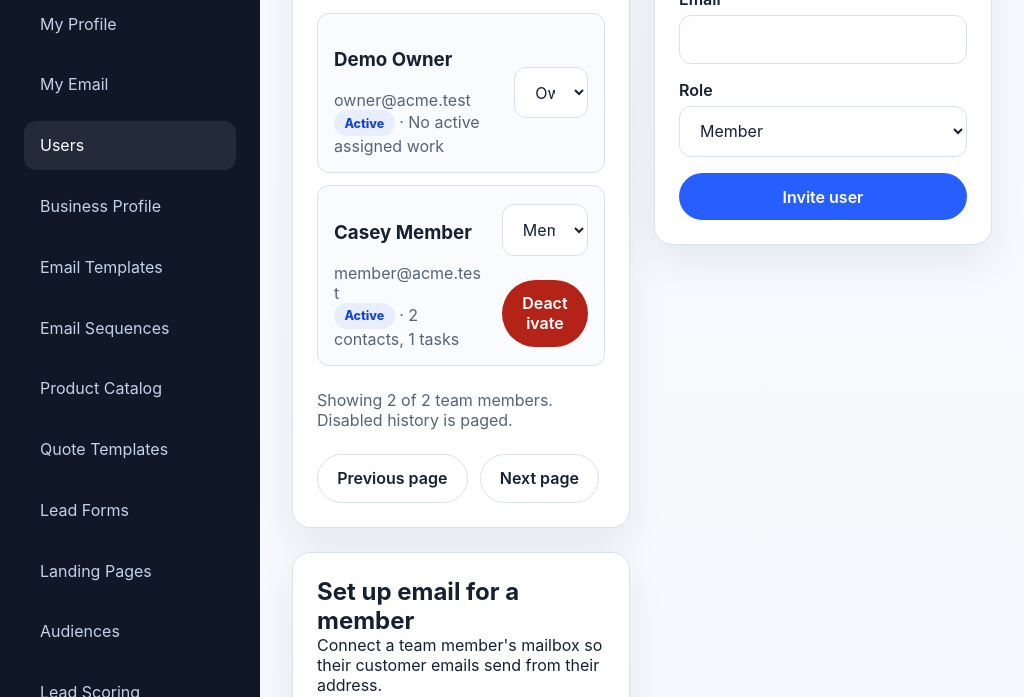
Test: settings users route › deactivates with explicit reassignment, ends sessions, and reactivates safely
(page scrolled)
Expected: the text "member@acme.test" is shown, [334,263,486,303]
Expected: the text "Active · 2 contacts, 1 tasks" is shown, [334,303,459,349]
Step 1. Click the button "Deactivate" → point(545, 313), box [502,280,588,347]
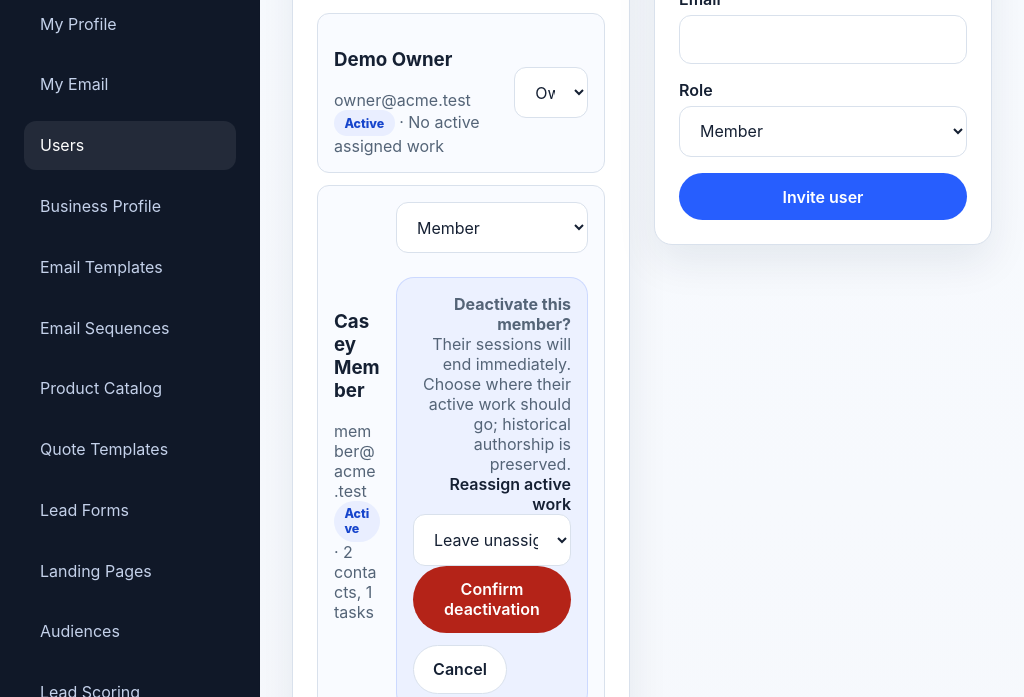
Step 2. Select "Demo Owner (owner@acme.test)" in the dropdown named "reassign work from member@acme.test" → point(492, 540), box [413,514,571,566]
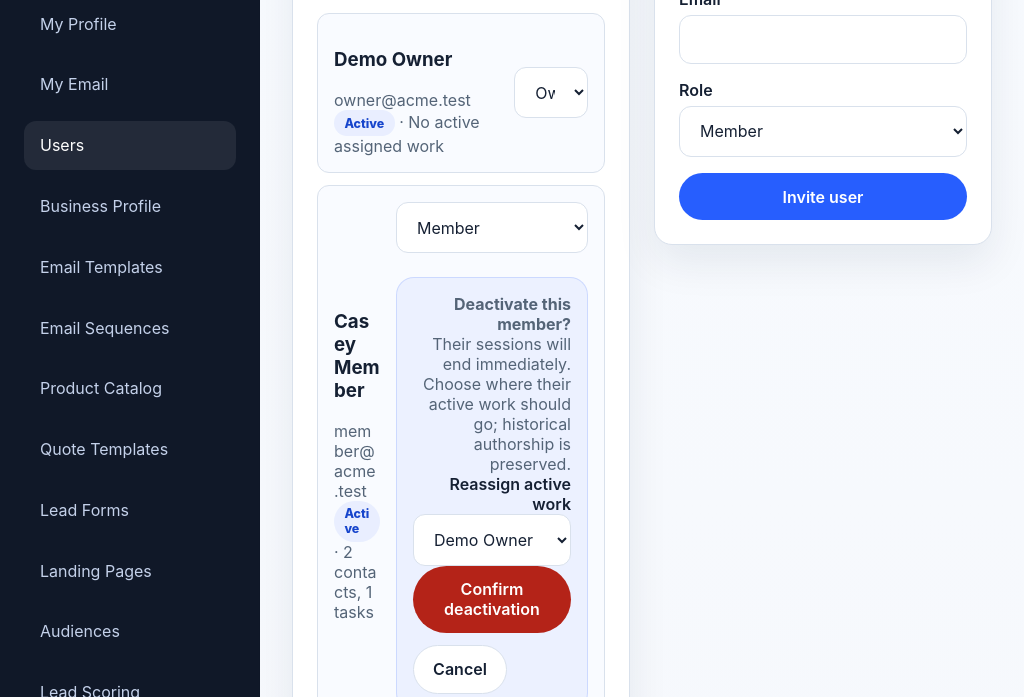
Step 3. Click the button "Confirm deactivation" → point(492, 599), box [413,566,571,633]
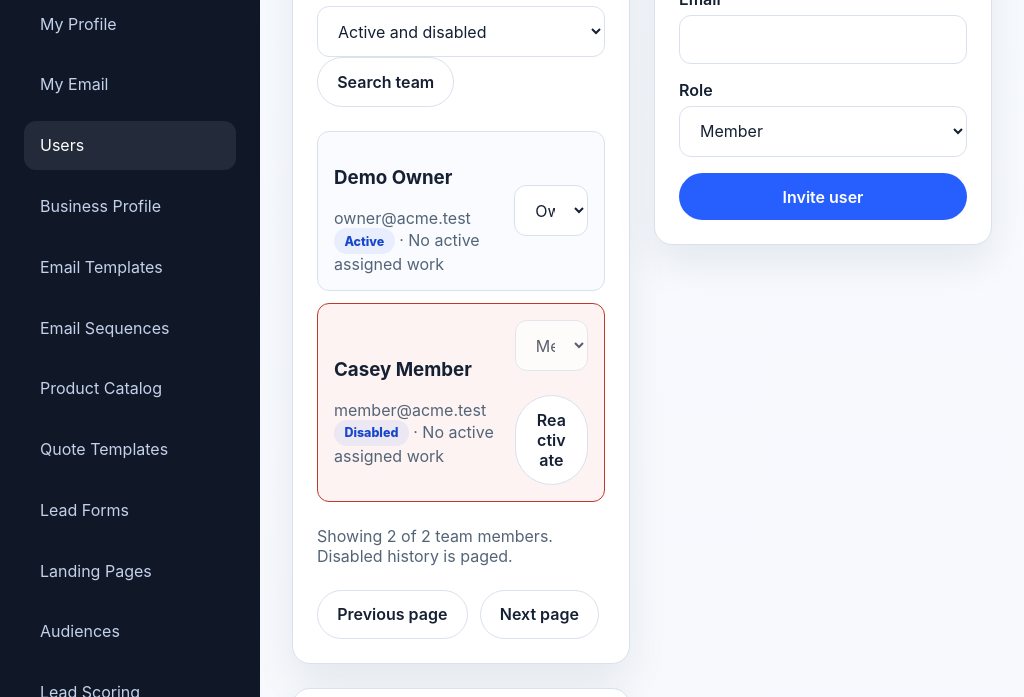
Expected: the text "Disabled" is shown, [334,420,409,446]
Step 4. Click the button "Reactivate" → point(551, 440), box [515,395,588,485]
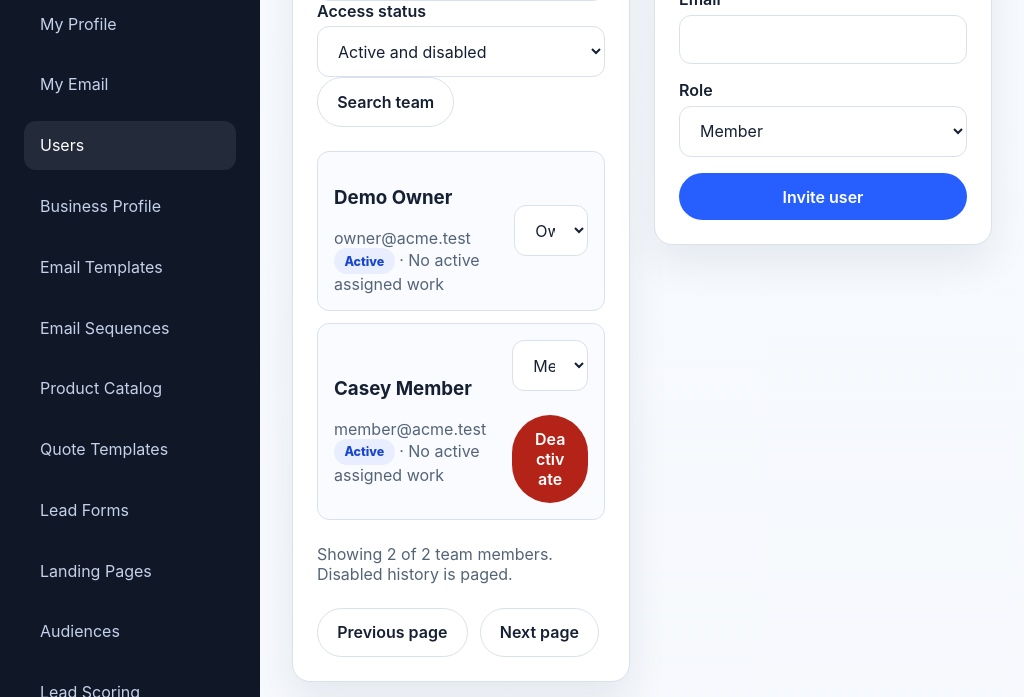
Expected: the text "Active" below "owner@acme.test" is shown, [344,254,384,269]
Expected: the text "Active" below "member@acme.test" is shown, [344,444,384,459]
